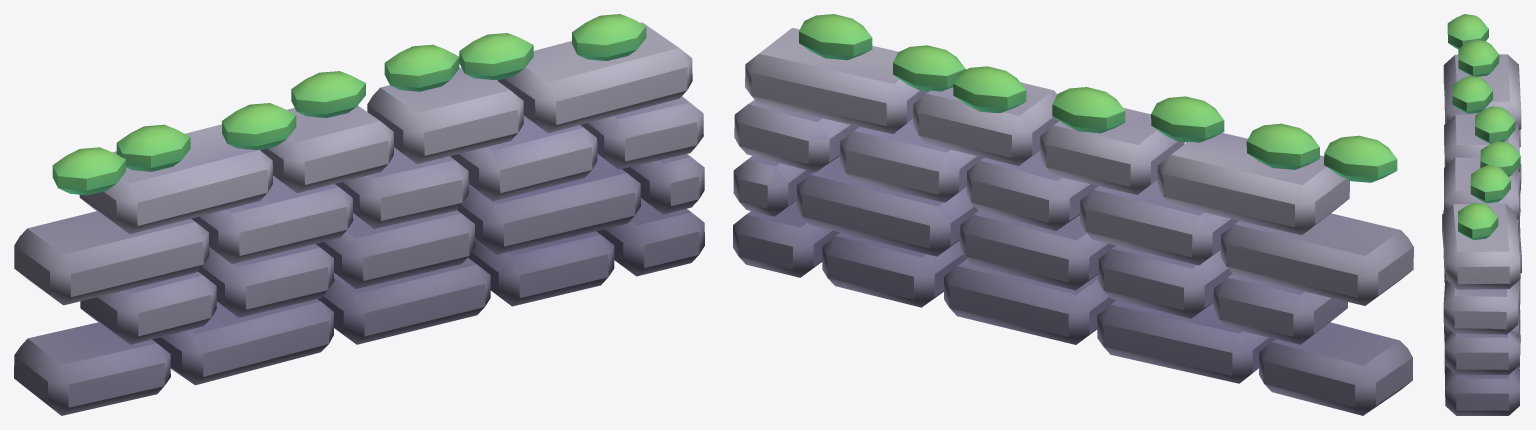
Rendered from common_town_garden_wall.glb.
3 renders of one model, left to right at view 1: azimuth 30°, elevation 25°; view 2: azimuth 150°, elevation 25°; view 3: azimuth 270°, elevation 25°, orthographic. The views are drawn at different scales.
Visible parts, largest first — view 1: common_town_garden_wall; view 2: common_town_garden_wall; view 3: common_town_garden_wall.
Part boxes in pixels (box(x1,y1,x2,y2)): common_town_garden_wall: box(14, 14, 704, 415); common_town_garden_wall: box(733, 14, 1413, 415); common_town_garden_wall: box(1442, 14, 1521, 415).
Bounding box in the file's own units: 2.96 × 1.08 × 0.4263.
